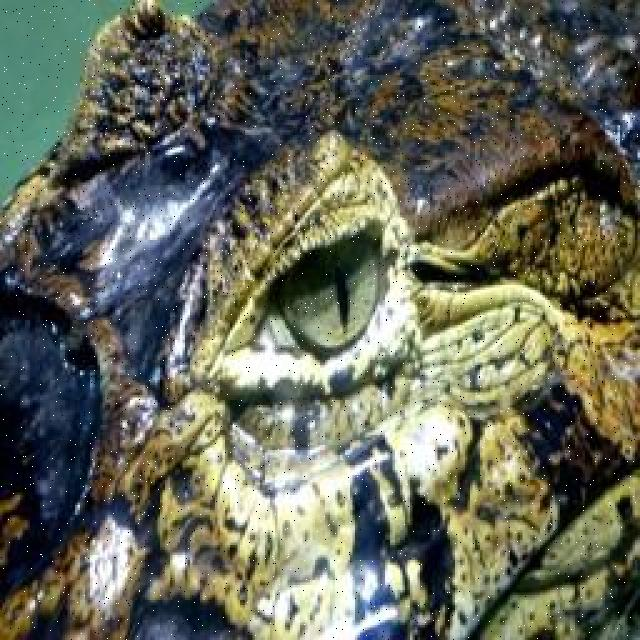fish: (0, 0, 638, 638)
